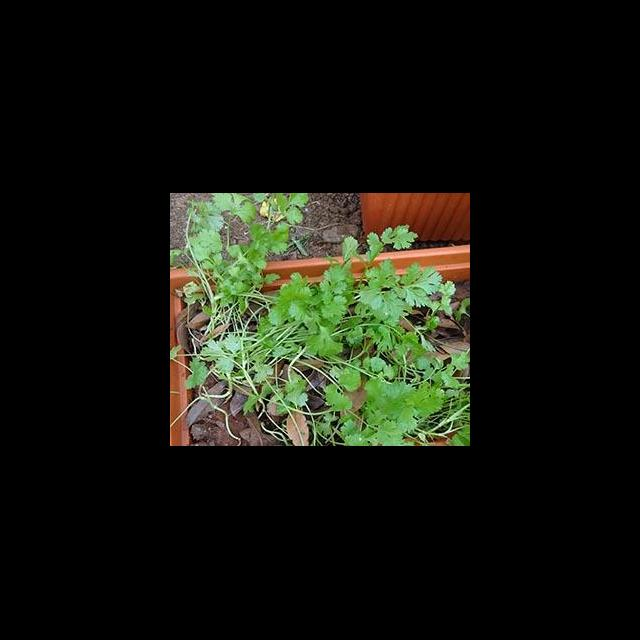cilantro: (201, 218, 416, 403)
